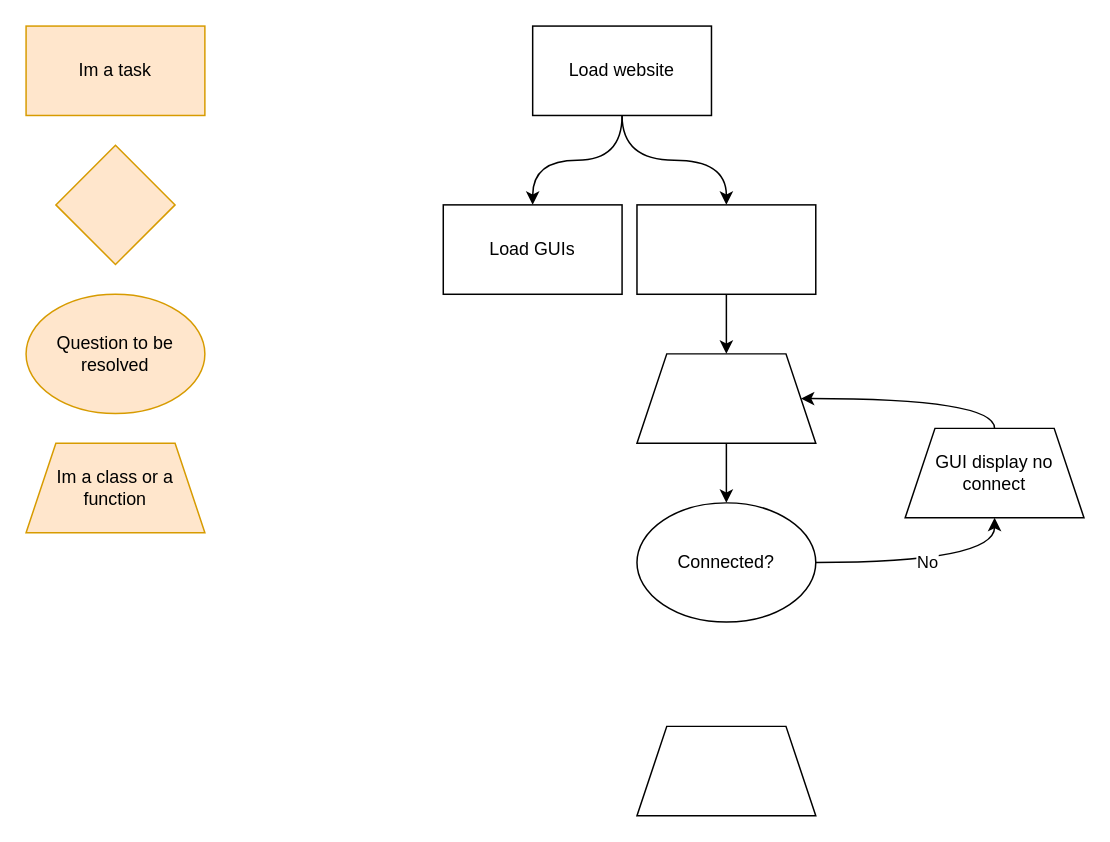
This 1110x842 diagram has some shape labels left out. The box of each missing label's shape, as (x1, y1, x2, y2) in pixels:
Connect Socks: (635, 352, 816, 443)
HTML Elemelon: (54, 144, 175, 264)
Load Sockets: (635, 203, 816, 294)
